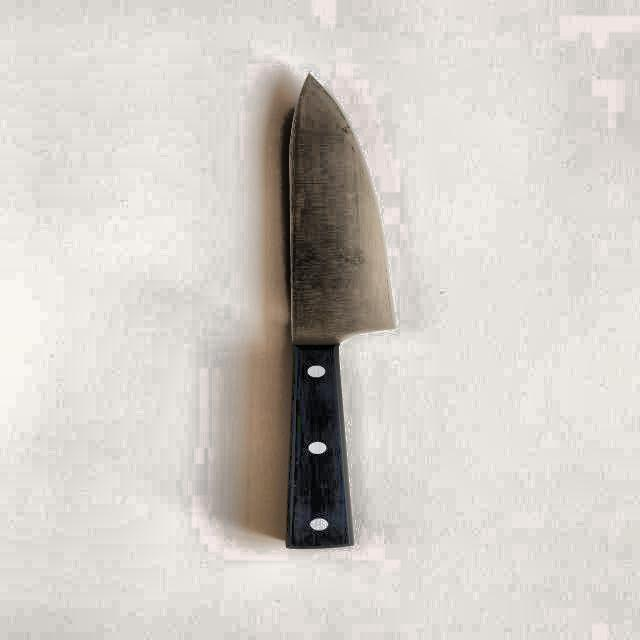knife: (282, 67, 403, 546)
